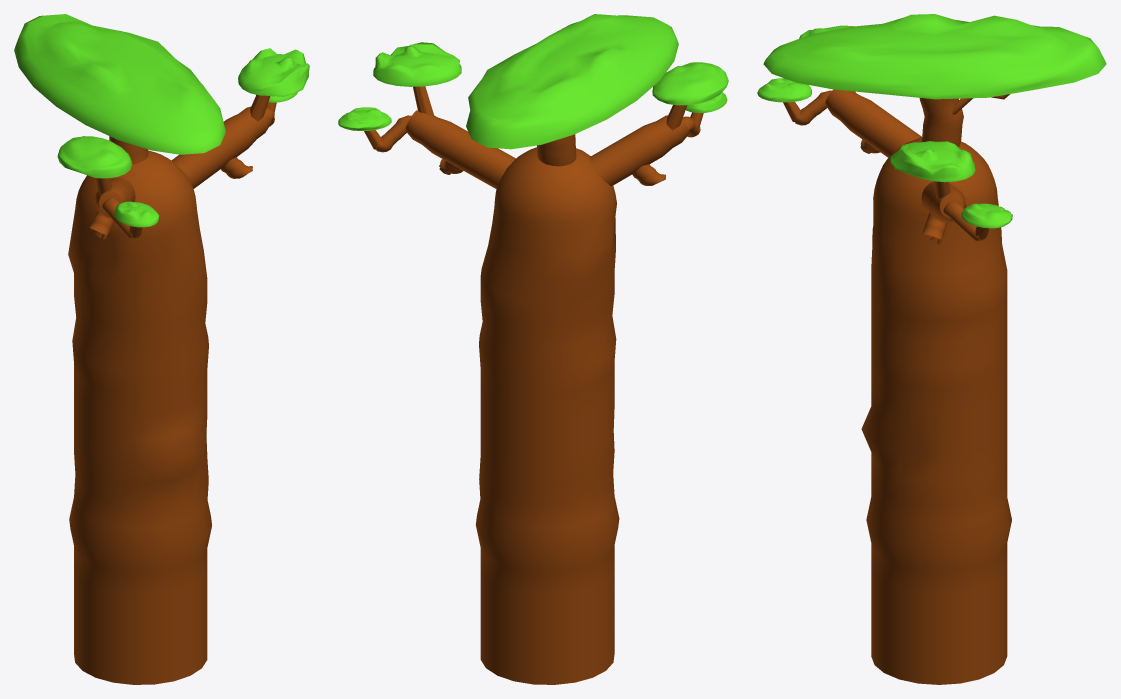
The model's file is Baobab_tree.fbx.
3 renders of one model, left to right at view 1: azimuth 30°, elevation 25°; view 2: azimuth 150°, elevation 25°; view 3: azimuth 270°, elevation 25°, orthographic.
Visible parts, largest first — view 1: pSphere6; view 2: pSphere6; view 3: pSphere6.
Part boxes in pixels (bbox=[...]): pSphere6: bbox=[14, 14, 309, 684]; pSphere6: bbox=[338, 14, 728, 684]; pSphere6: bbox=[757, 14, 1106, 684].
Bounding box in the file's own units: 11.39 × 21.69 × 11.14.
Materials: 1 (1 with a texture image).
